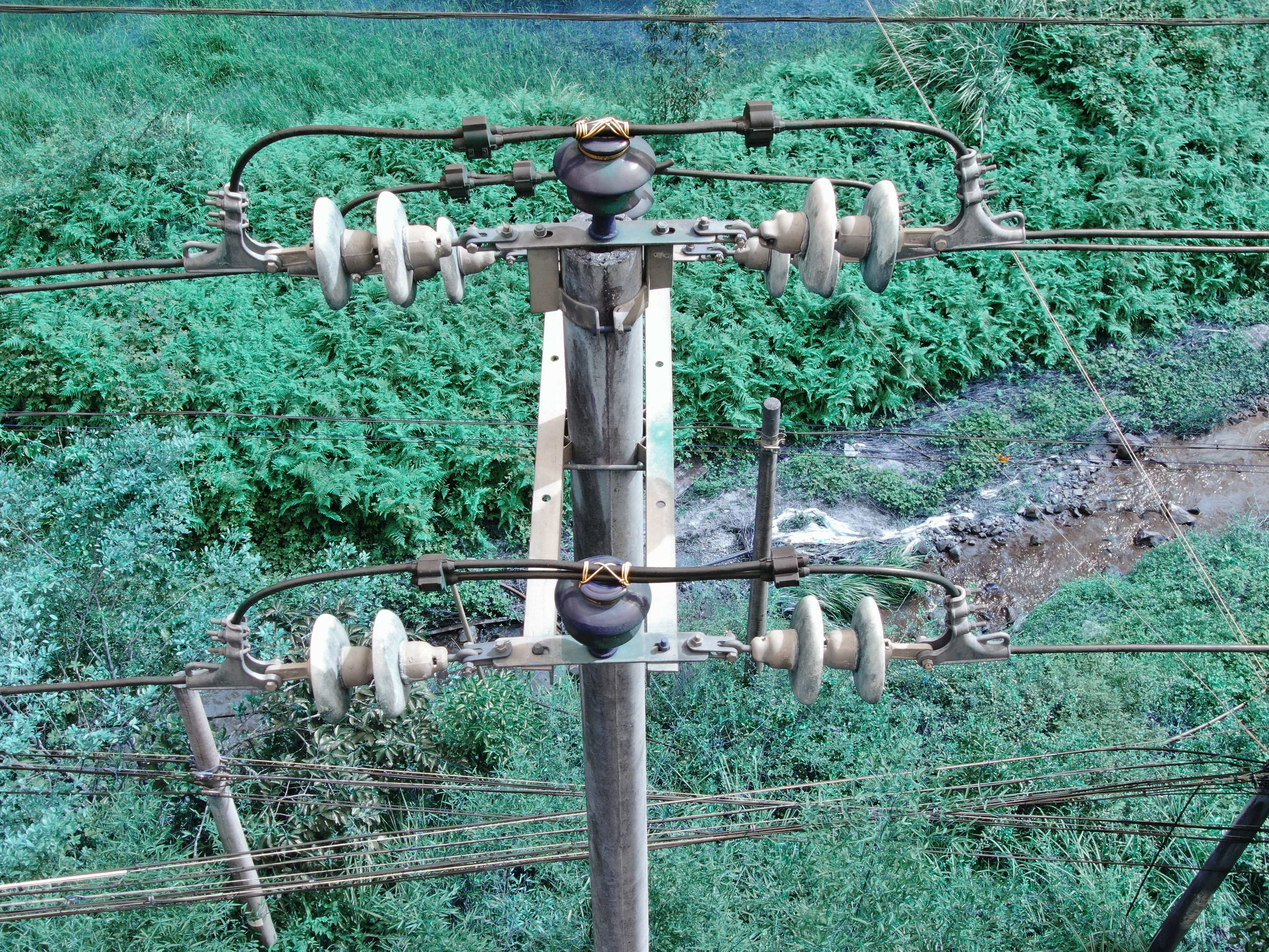severe_soiling_no_discharge_whole: (301, 183, 455, 313), (300, 604, 452, 725), (762, 171, 906, 297), (751, 586, 893, 705), (548, 552, 659, 653), (546, 123, 660, 221)
